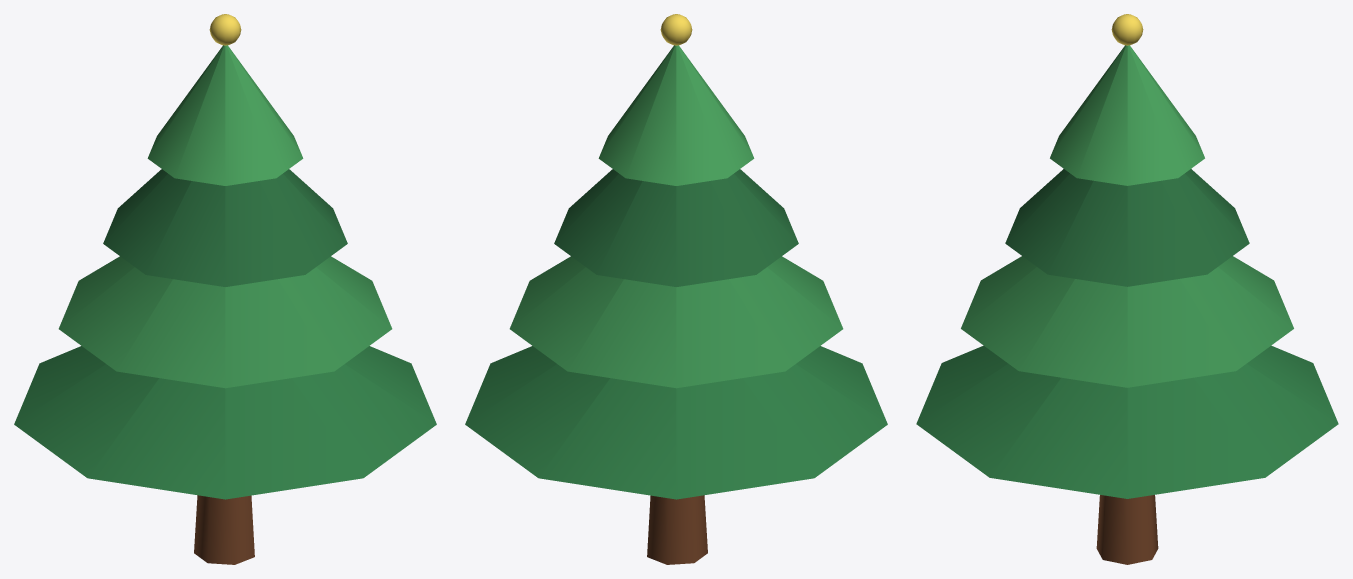
File: tree_pine.glb
3 renders of one model, left to right at view 1: azimuth 30°, elevation 25°; view 2: azimuth 150°, elevation 25°; view 3: azimuth 270°, elevation 25°, orthographic.
Visible parts, largest first — view 1: root; view 2: root; view 3: root.
Boxes of the visible parts, box(x1,y1,x2,y2) form: root: box(14, 14, 436, 564); root: box(465, 14, 887, 564); root: box(916, 14, 1338, 564).
Size of the model in its own units: 1.84 by 2.62 by 1.87.
